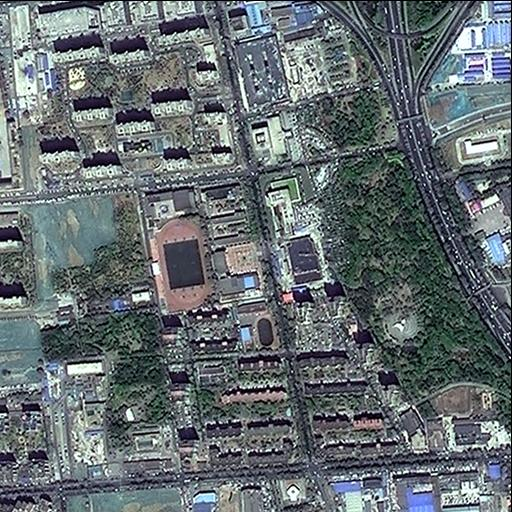school: (135, 182, 269, 313), (229, 297, 283, 355)
